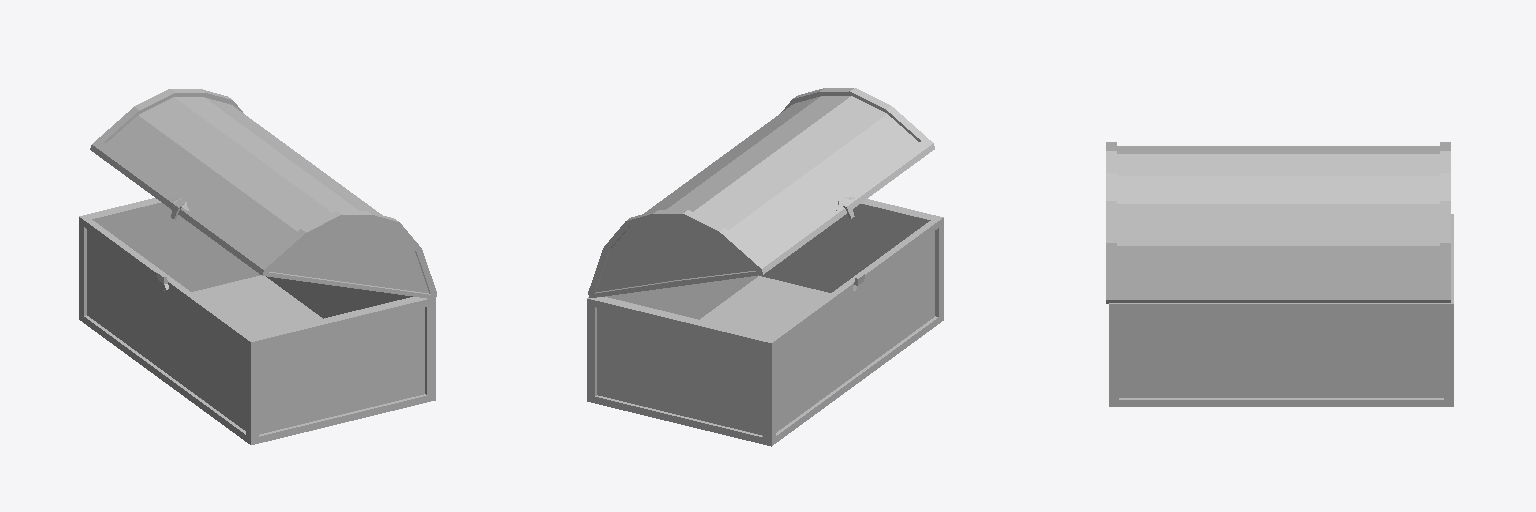
Rendered from Chest.obj.
3 renders of one model, left to right at view 1: azimuth 30°, elevation 25°; view 2: azimuth 150°, elevation 25°; view 3: azimuth 270°, elevation 25°, orthographic.
Visible parts, largest first — view 1: chest; view 2: chest; view 3: chest.
Boxes of the visible parts, box(x1,y1,x2,y2) form: chest: box(79, 89, 436, 444); chest: box(587, 88, 943, 446); chest: box(1106, 142, 1453, 406).
Bounding box in the file's own units: 0.7476 × 0.792 × 1.19.